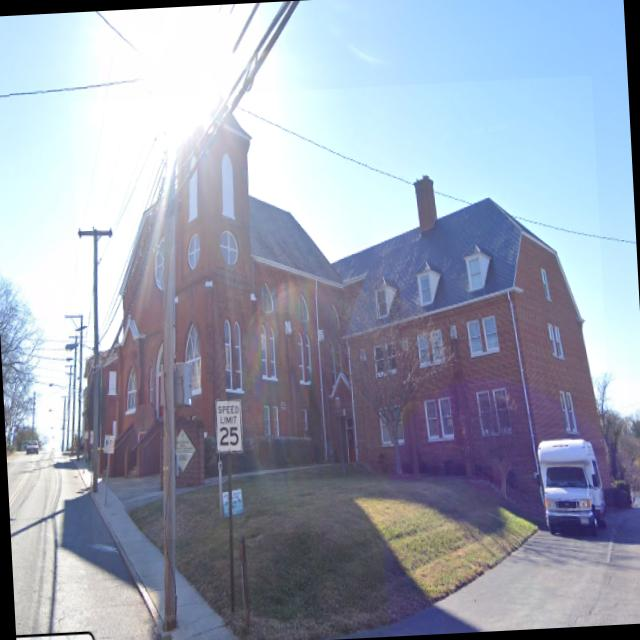House: (70, 76, 615, 544)
